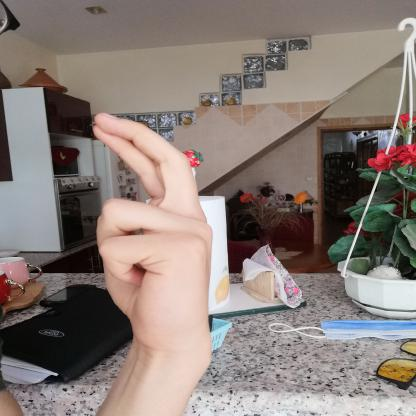ZAY: (76, 103, 228, 364)
